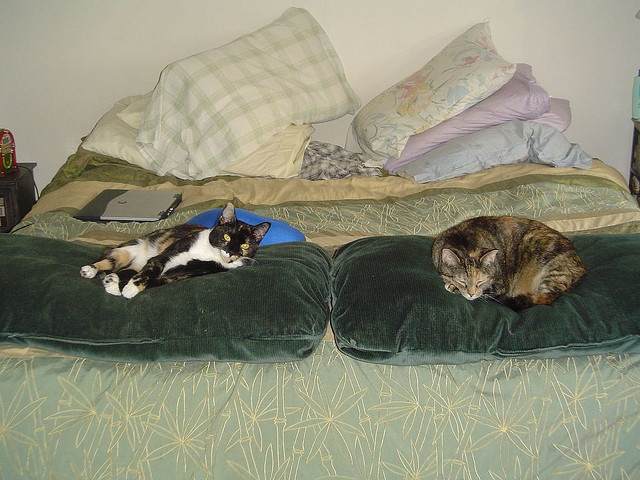bed: (0, 4, 640, 478)
cat: (79, 201, 352, 480)
